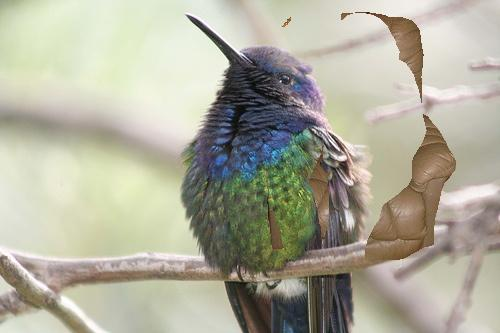tampered: (267, 13, 456, 260)
